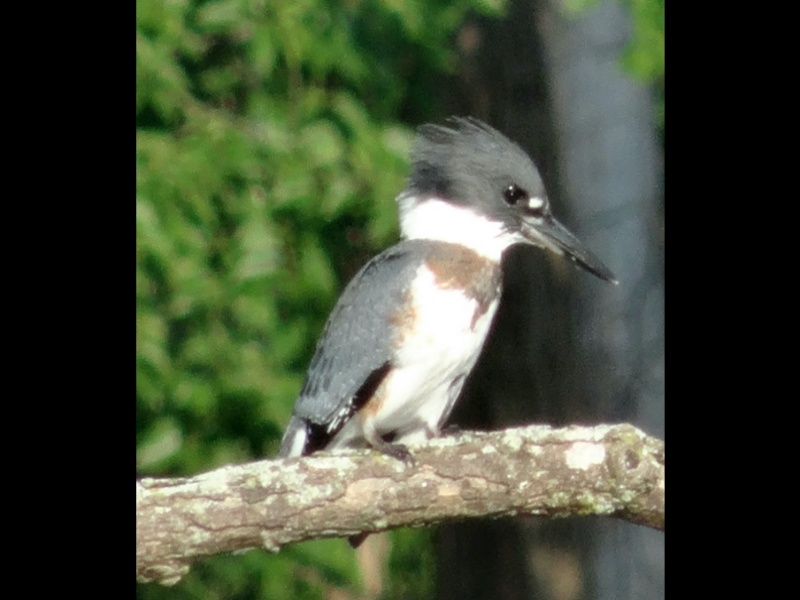kingfisher: (260, 112, 621, 493)
